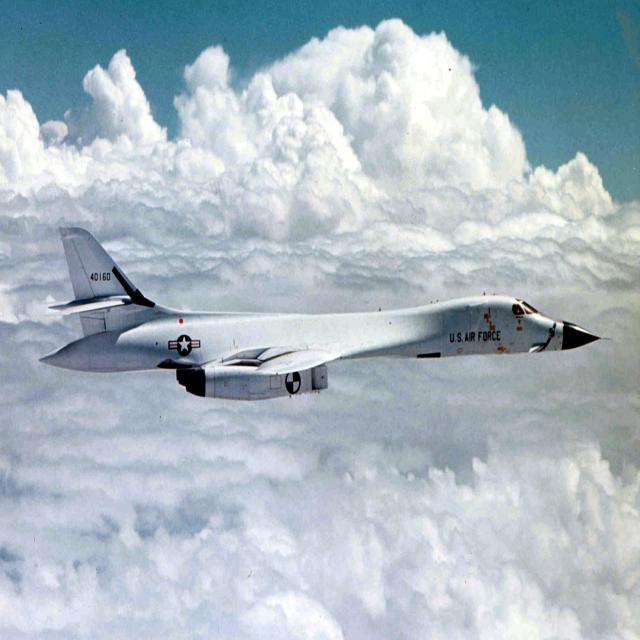MIL_Plane: (38, 259, 611, 369)
